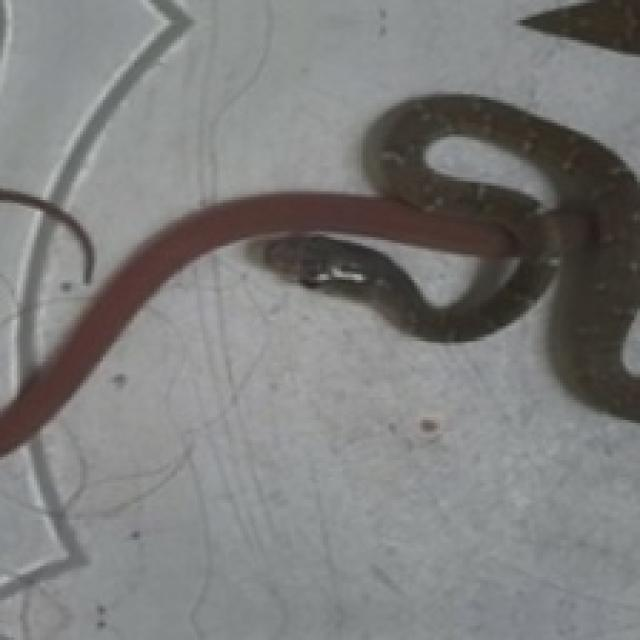reddish rat snake: (0, 100, 640, 451)
